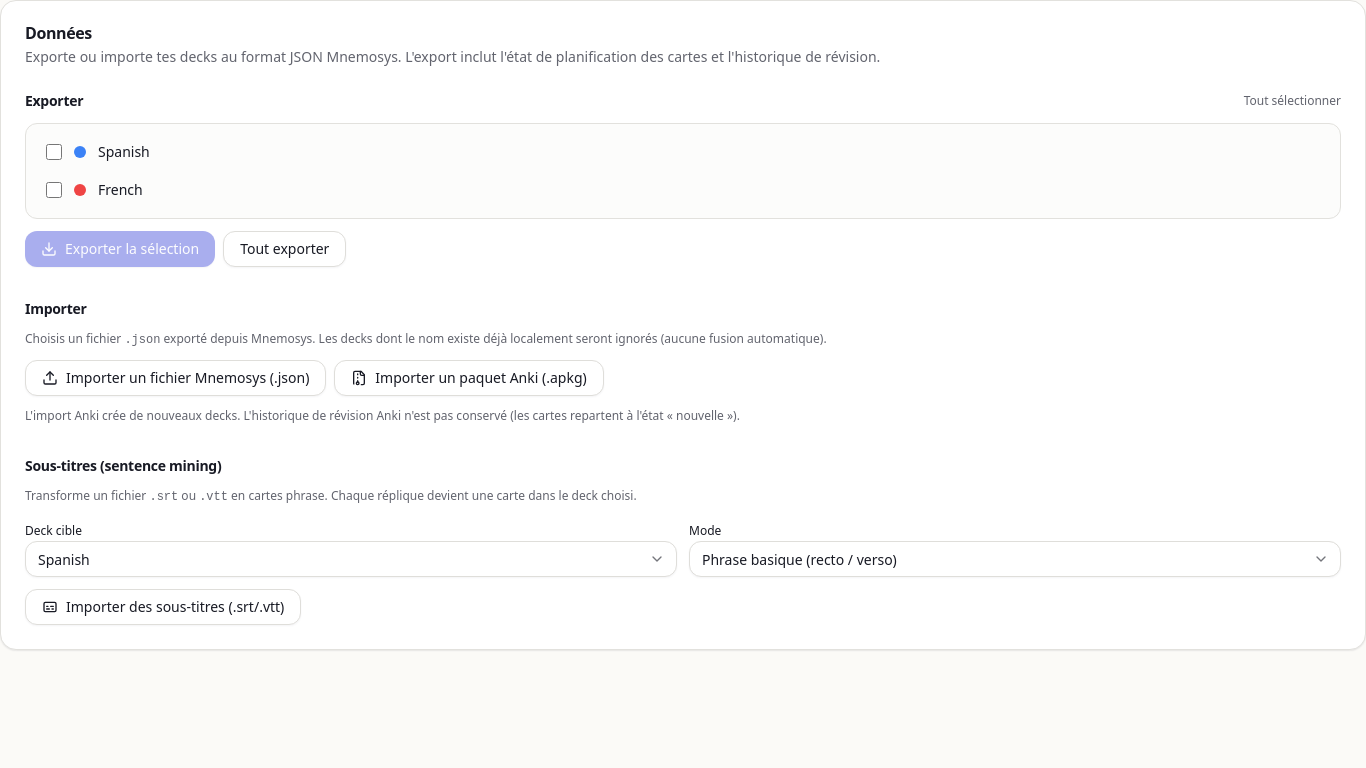
Scenario: ImportExportSection › 'Tout sélectionner' toggles every checkbox
Expected: the checkbox labelled "Spanish" is not checked, [46, 144, 62, 160]
Expected: the checkbox labelled "French" is not checked, [46, 182, 62, 198]
Step 1. Click the button "Tout sélectionner" → x=1292, y=101, box [1244, 93, 1341, 109]
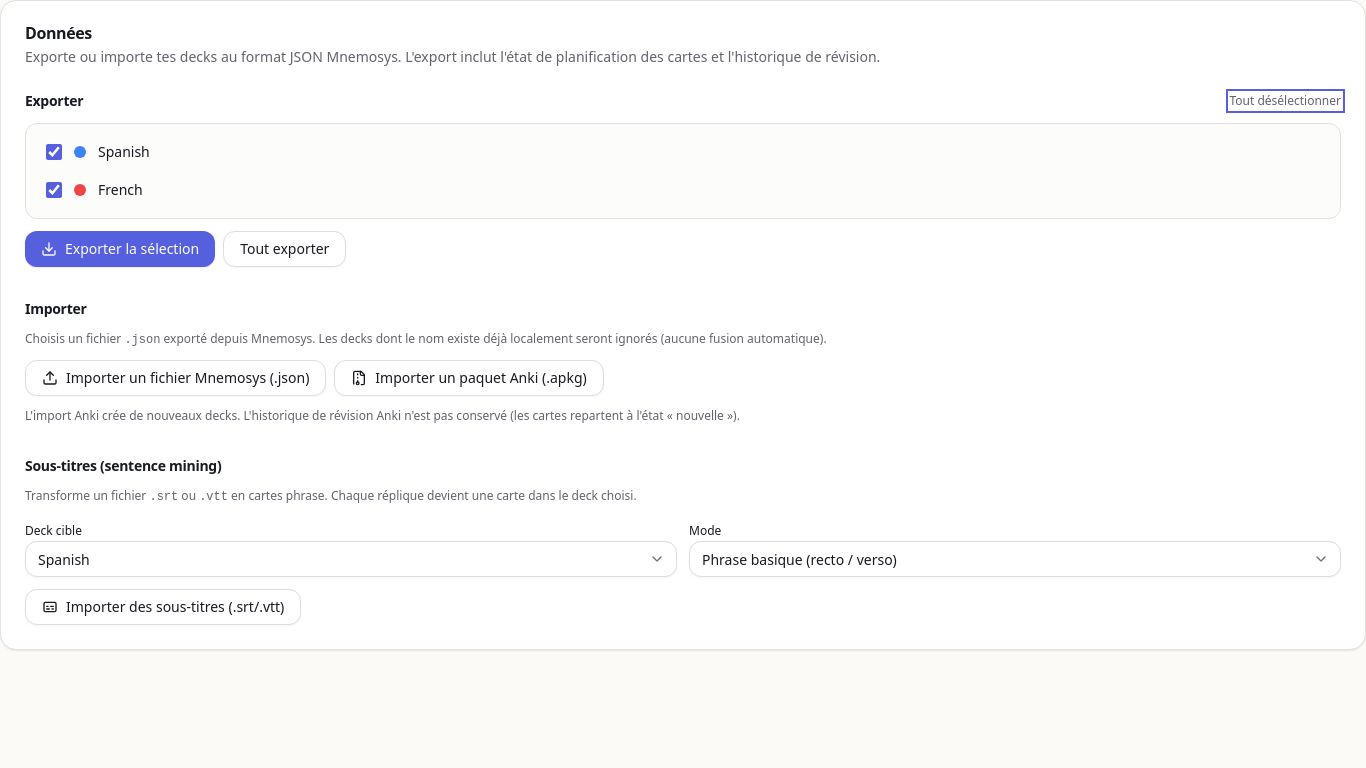
Expected: the checkbox labelled "Spanish" is checked, [46, 144, 62, 160]
Expected: the checkbox labelled "French" is checked, [46, 182, 62, 198]
Step 2. Click the button "Tout désélectionner" → x=1285, y=101, box [1230, 93, 1341, 109]
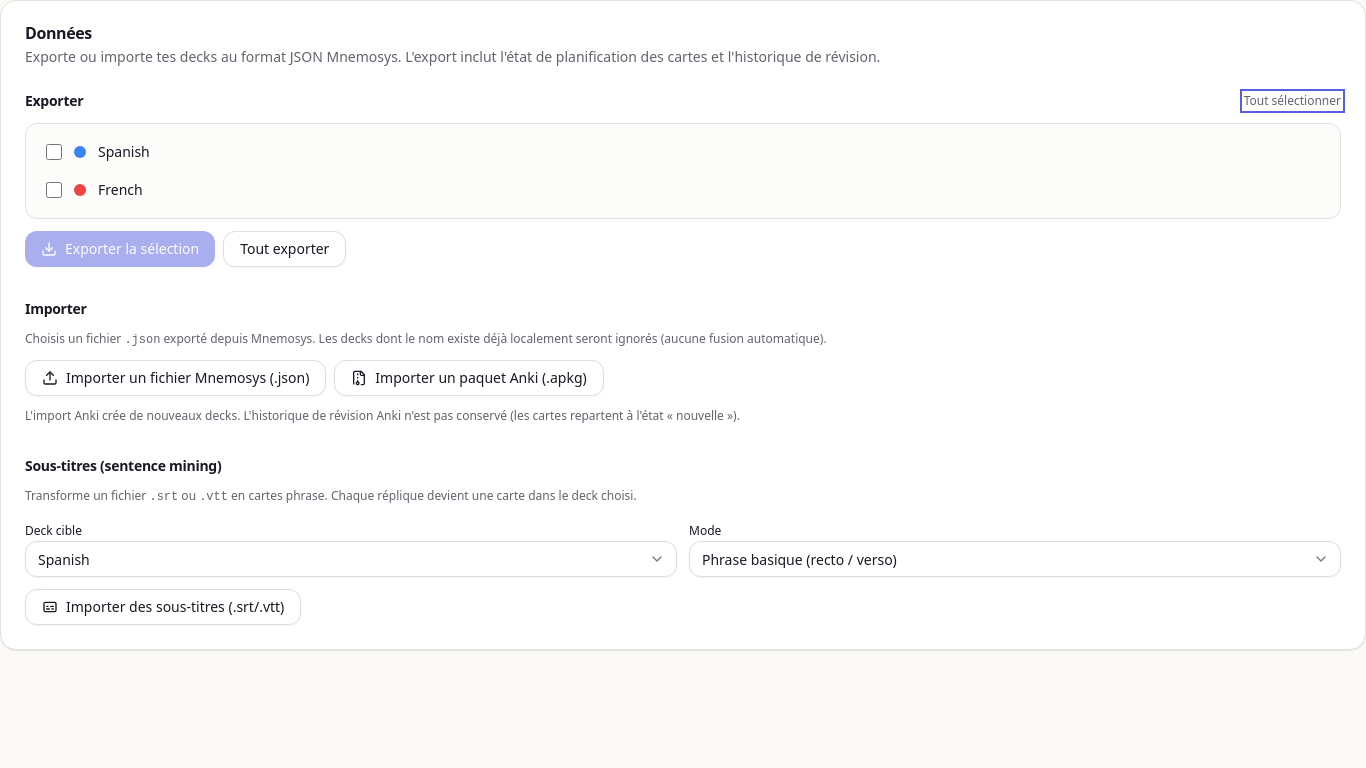
Expected: the checkbox labelled "Spanish" is not checked, [46, 144, 62, 160]
Expected: the checkbox labelled "French" is not checked, [46, 182, 62, 198]
